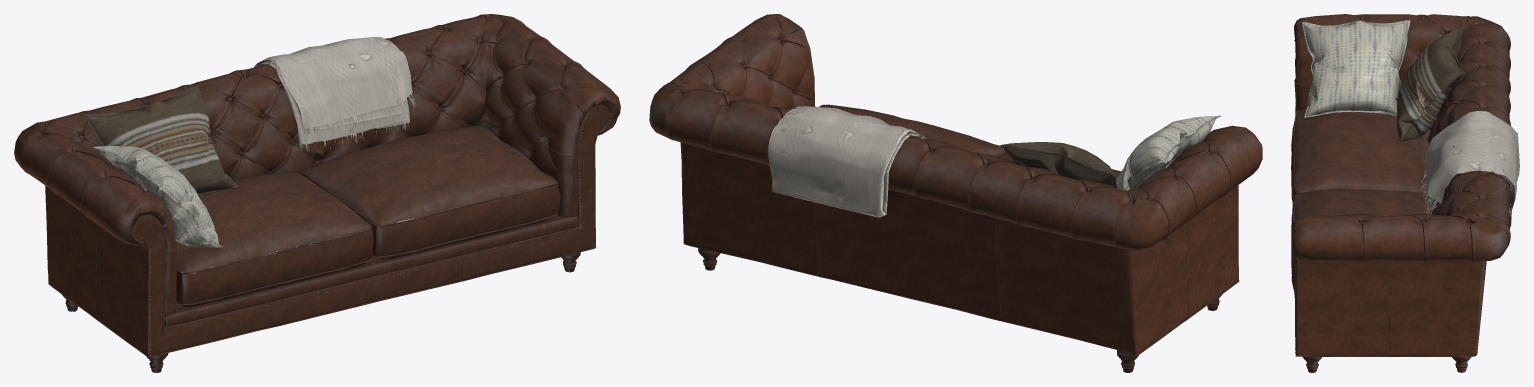
The model's file is raw_model.obj.
The picture shows the model from 3 angles, left to right: view 1: azimuth 30°, elevation 25°; view 2: azimuth 150°, elevation 25°; view 3: azimuth 270°, elevation 25°; orthographic projection. The views are drawn at different scales.
Parts seen in each view (by area): view 1: solid_004, solid_003, solid_006, solid_002, solid_001, solid_005; view 2: solid_004, solid_003, solid_002, solid_006, solid_001; view 3: solid_004, solid_002, solid_003, solid_006, solid_001.
Boxes of the visible parts, x1,y1,x2,y2 form: solid_004: [14, 14, 620, 356]; solid_003: [254, 37, 416, 151]; solid_006: [84, 85, 238, 195]; solid_002: [93, 145, 222, 247]; solid_001: [61, 252, 580, 372]; solid_005: [135, 106, 608, 353]; solid_004: [649, 14, 1262, 355]; solid_003: [768, 106, 925, 217]; solid_002: [1116, 115, 1220, 190]; solid_006: [998, 142, 1123, 190]; solid_001: [698, 248, 1222, 372]; solid_004: [1291, 14, 1511, 356]; solid_002: [1302, 20, 1410, 117]; solid_003: [1421, 111, 1519, 226]; solid_006: [1396, 25, 1465, 142]; solid_001: [1302, 356, 1471, 372].
Bounding box in the file's own units: 2.04 × 0.7543 × 0.8883.
Materials: 1 (1 with a texture image).
